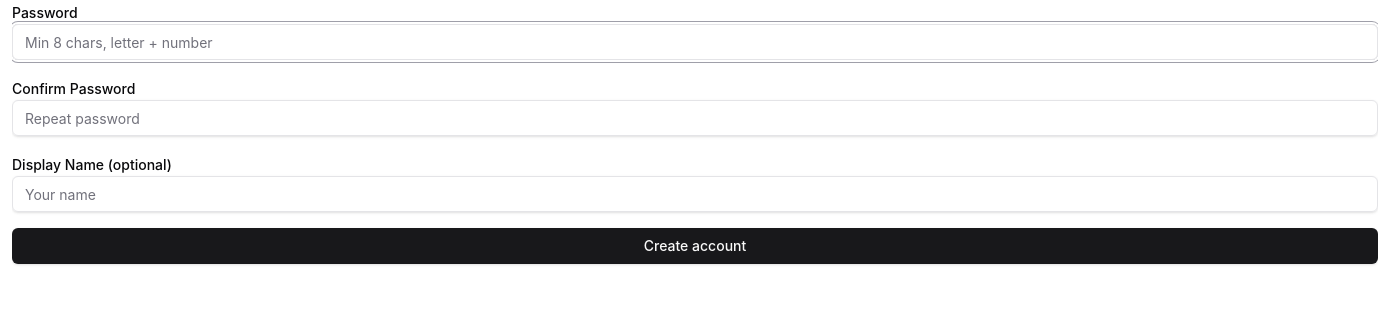
Test case: OnboardingForm › shows error when passwords do not match
Type "Password1" into the password field labelled "Password" at (695, 42), box [12, 24, 1378, 60]
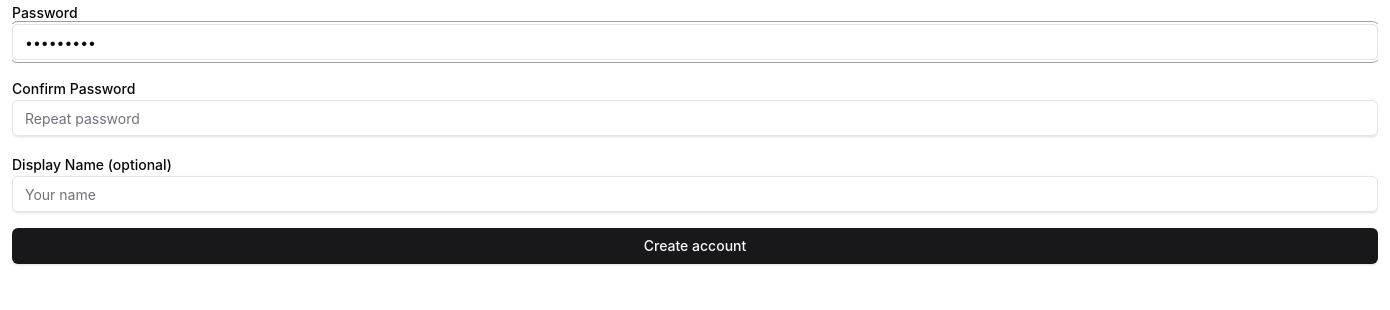
Type "Different1" into the password field labelled "Confirm Password" at (695, 118), box [12, 100, 1378, 136]
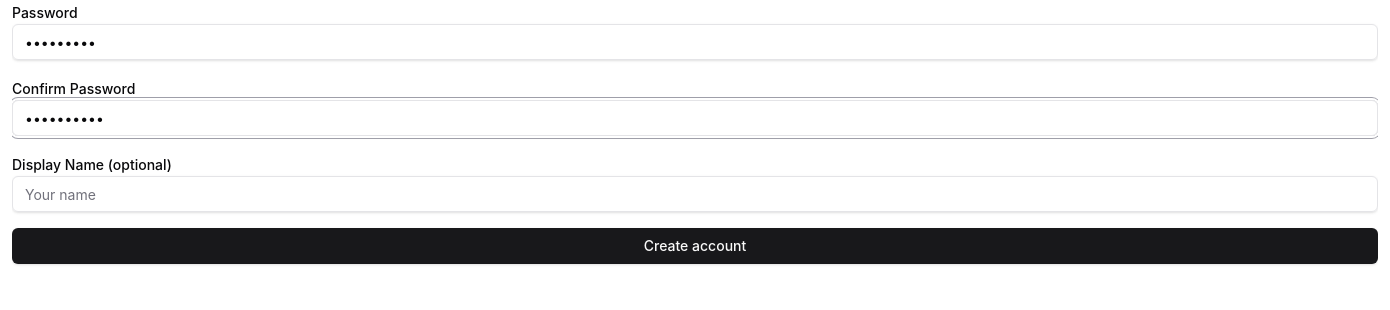
Click the button "Create account" at (695, 246), box [12, 228, 1378, 264]
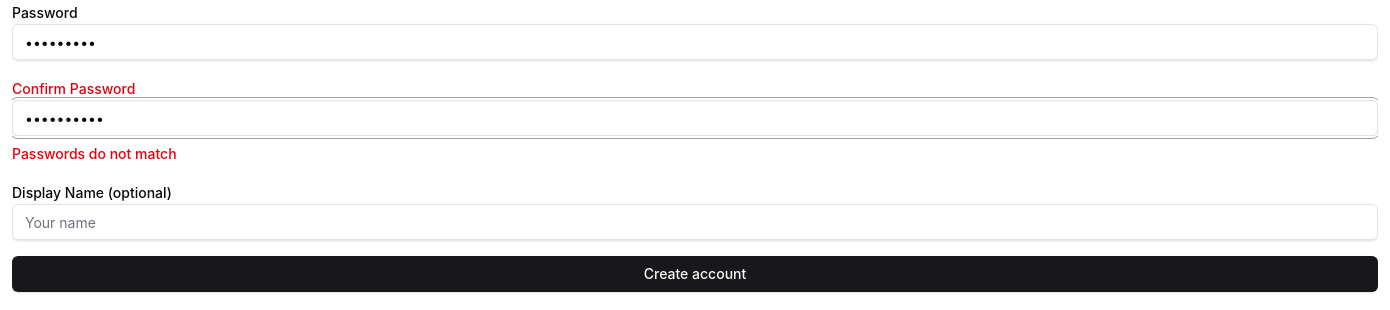
expect the text "Passwords do not match" is shown: met, box [12, 145, 177, 162]
